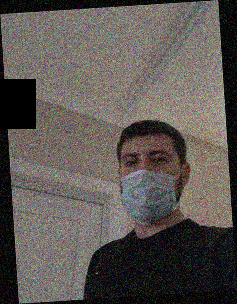with_mask: (119, 145, 180, 224)
